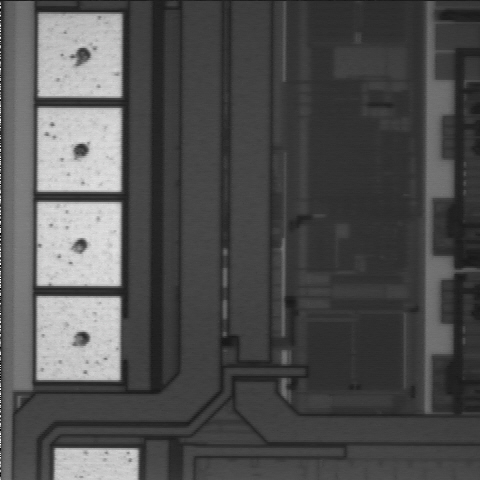pad: (37, 202, 121, 286), (38, 108, 121, 192), (37, 296, 120, 380), (39, 14, 121, 97)
